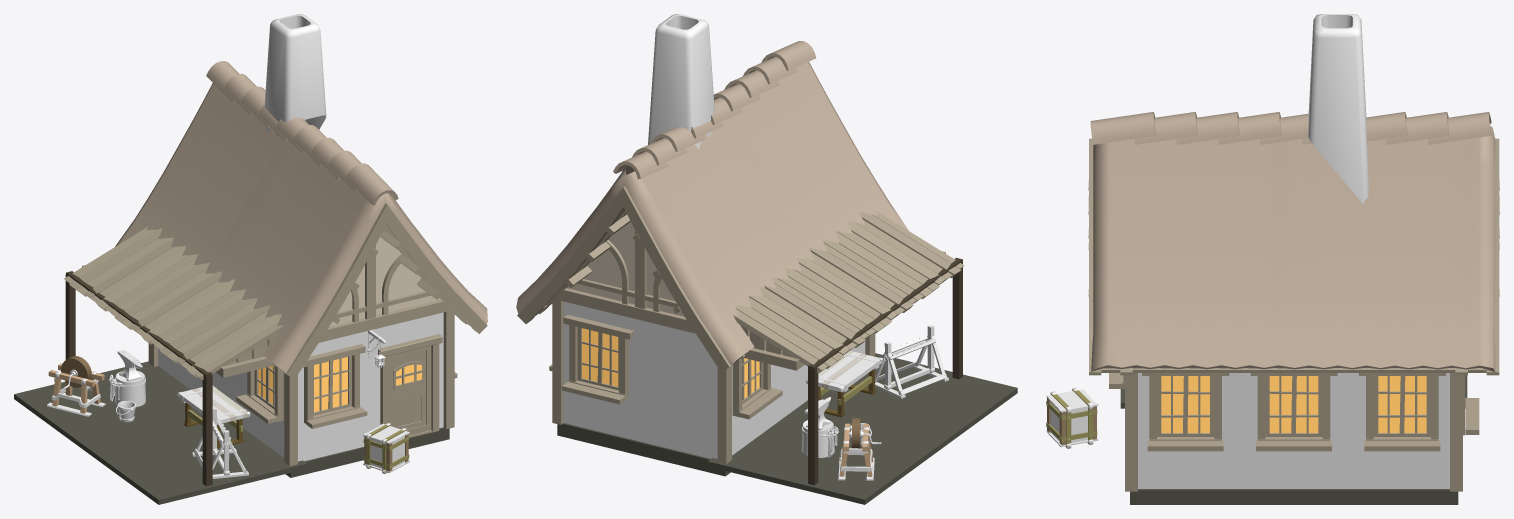
Rendered from eastbrook_smithy.glb.
The picture shows the model from 3 angles, left to right: view 1: azimuth 30°, elevation 25°; view 2: azimuth 150°, elevation 25°; view 3: azimuth 270°, elevation 25°; orthographic projection. The views are drawn at different scales.
Parts seen in each view (by area): view 1: village/MI_RoundTiles, village/MI_WoodTrim, smithy-front-normalization, village/MI_WoodTrim_Wear, village/MI_UnevenBrick, props/MI_Trim_Furniture (×2), village/MI_Plaster, props/MI_Trim_Metal, village/MI_WindowGlass, props/MI_Trim_Props, props/MI_Trim_Props_Vertex; view 2: village/MI_RoundTiles, village/MI_UnevenBrick, smithy-front-normalization, village/MI_WoodTrim, village/MI_WoodTrim_Wear, props/MI_Trim_Furniture, village/MI_Plaster, village/MI_WindowGlass, props/MI_Trim_Metal, props/MI_Trim_Props; view 3: village/MI_RoundTiles, village/MI_UnevenBrick, village/MI_WoodTrim, village/MI_WindowGlass, smithy-front-normalization, props/MI_Trim_Furniture.
Part boxes in pixels (<box>): village/MI_RoundTiles: <box>115,61,487,373</box>; village/MI_WoodTrim: <box>82,203,487,465</box>; smithy-front-normalization: <box>14,271,449,504</box>; village/MI_WoodTrim_Wear: <box>64,227,283,379</box>; village/MI_UnevenBrick: <box>158,14,443,461</box>; props/MI_Trim_Furniture (×2): <box>47,363,409,478</box>; village/MI_Plaster: <box>329,237,440,326</box>; props/MI_Trim_Metal: <box>52,330,385,475</box>; village/MI_WindowGlass: <box>258,357,422,412</box>; props/MI_Trim_Props: <box>109,377,145,406</box>; props/MI_Trim_Props_Vertex: <box>61,356,91,387</box>; village/MI_RoundTiles: <box>516,41,908,365</box>; village/MI_UnevenBrick: <box>563,14,865,458</box>; smithy-front-normalization: <box>557,257,1017,504</box>; village/MI_WoodTrim: <box>517,186,945,463</box>; village/MI_WoodTrim_Wear: <box>733,210,964,373</box>; props/MI_Trim_Furniture: <box>803,330,948,480</box>; village/MI_Plaster: <box>567,221,684,316</box>; village/MI_WindowGlass: <box>582,328,759,398</box>; props/MI_Trim_Metal: <box>802,325,945,470</box>; props/MI_Trim_Props: <box>801,426,838,457</box>; village/MI_RoundTiles: <box>1090,112,1495,371</box>; village/MI_UnevenBrick: <box>1138,14,1449,488</box>; village/MI_WoodTrim: <box>1088,138,1499,491</box>; village/MI_WindowGlass: <box>1161,376,1426,432</box>; smithy-front-normalization: <box>1120,375,1467,504</box>; props/MI_Trim_Furniture: <box>1046,389,1098,447</box>.
Bounding box in the file's own units: 8.26 × 9.04 × 8.37.
